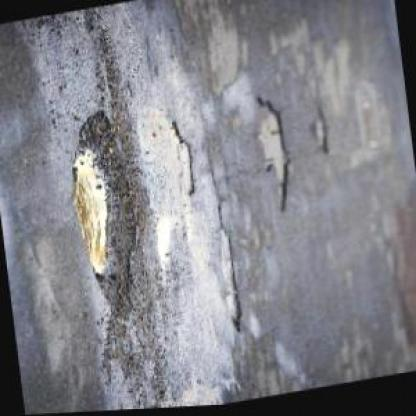pothole: (64, 106, 152, 322), (252, 94, 296, 218), (219, 228, 247, 336), (169, 121, 197, 200), (313, 108, 333, 160)
